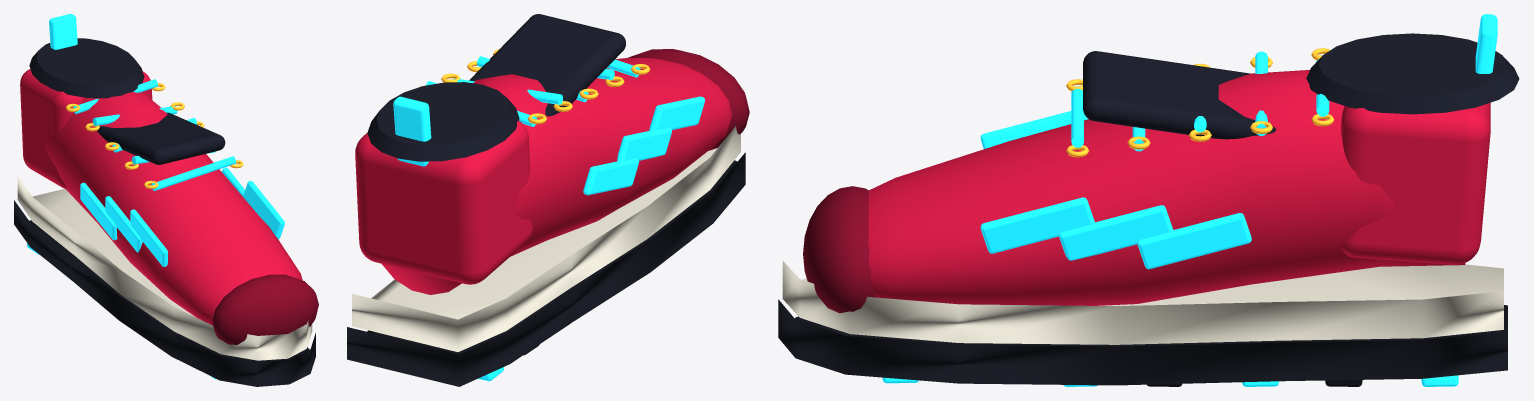
The model's file is kick-trainer.glb.
The picture shows the model from 3 angles, left to right: view 1: azimuth 30°, elevation 25°; view 2: azimuth 150°, elevation 25°; view 3: azimuth 270°, elevation 25°; orthographic projection. The views are drawn at different scales.
Parts seen in each view (by area): view 1: red_upper, white_midsole, black_outsole, crimson_toe_bumper, collar_opening, heel_counter, shoe_tongue, cyan_side_stripe_1_2, heel_pull_tab, cyan_side_stripe_-1_2, cyan_side_stripe_-1_0, cyan_side_stripe_-1_1 (+3 smaller); view 2: red_upper, heel_counter, white_midsole, black_outsole, collar_opening, shoe_tongue, crimson_toe_bumper, heel_pull_tab, cyan_side_stripe_-1_0, cyan_side_stripe_-1_2, cyan_side_stripe_-1_1, cyan_lace_1; view 3: red_upper, white_midsole, black_outsole, heel_counter, collar_opening, shoe_tongue, crimson_toe_bumper, cyan_side_stripe_1_0, cyan_side_stripe_1_2, cyan_side_stripe_1_1, cyan_side_stripe_-1_2, heel_pull_tab (+1 smaller).
Boxes of the visible parts, x1,y1,x2,y2 form: red_upper: [44, 92, 302, 325]; white_midsole: [17, 176, 312, 360]; black_outsole: [14, 200, 315, 386]; crimson_toe_bumper: [212, 274, 318, 344]; collar_opening: [29, 38, 144, 98]; heel_counter: [20, 69, 152, 189]; shoe_tongue: [97, 112, 225, 164]; cyan_side_stripe_1_2: [243, 181, 284, 239]; heel_pull_tab: [49, 14, 77, 49]; cyan_side_stripe_-1_2: [130, 209, 167, 266]; cyan_side_stripe_-1_0: [80, 182, 117, 240]; cyan_side_stripe_-1_1: [105, 196, 142, 252]; red_upper: [382, 58, 732, 294]; heel_counter: [355, 121, 532, 284]; white_midsole: [352, 126, 740, 351]; black_outsole: [347, 152, 745, 386]; collar_opening: [367, 82, 519, 161]; shoe_tongue: [469, 14, 625, 116]; crimson_toe_bumper: [628, 49, 749, 150]; heel_pull_tab: [393, 96, 431, 166]; cyan_side_stripe_-1_0: [583, 158, 638, 195]; cyan_side_stripe_-1_2: [649, 96, 704, 130]; cyan_side_stripe_-1_1: [617, 127, 671, 161]; cyan_lace_1: [453, 78, 562, 104]; red_upper: [868, 70, 1465, 305]; white_midsole: [782, 261, 1503, 344]; black_outsole: [778, 299, 1507, 385]; heel_counter: [1341, 102, 1490, 264]; collar_opening: [1306, 33, 1519, 114]; shoe_tongue: [1083, 51, 1276, 139]; crimson_toe_bumper: [803, 186, 874, 313]; cyan_side_stripe_1_0: [1137, 213, 1251, 269]; cyan_side_stripe_1_2: [980, 197, 1094, 253]; cyan_side_stripe_1_1: [1059, 205, 1173, 260]; cyan_side_stripe_-1_2: [980, 111, 1088, 148]; heel_pull_tab: [1475, 14, 1497, 73].
Bounding box in the file's own units: 0.158 × 0.2555 × 0.52.
